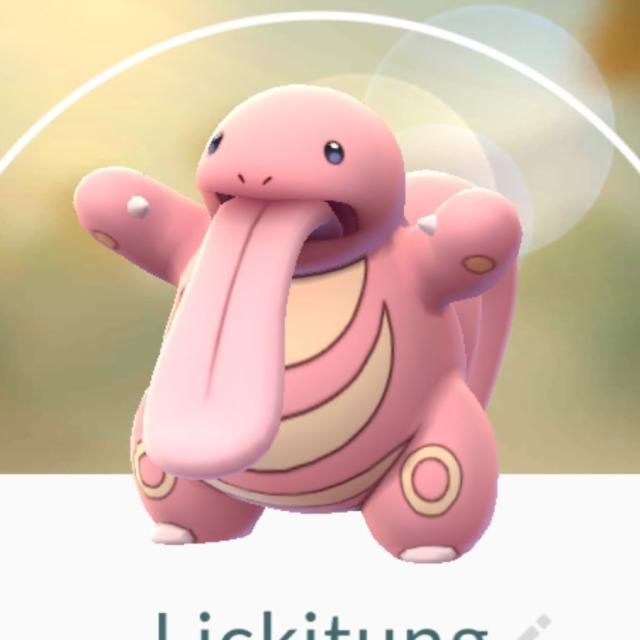Lickitung: (123, 80, 522, 564)
